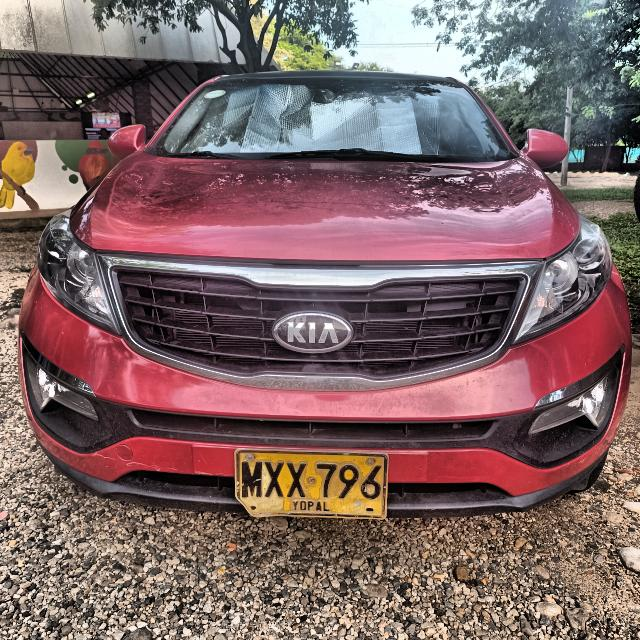plate: (237, 451, 387, 517)
